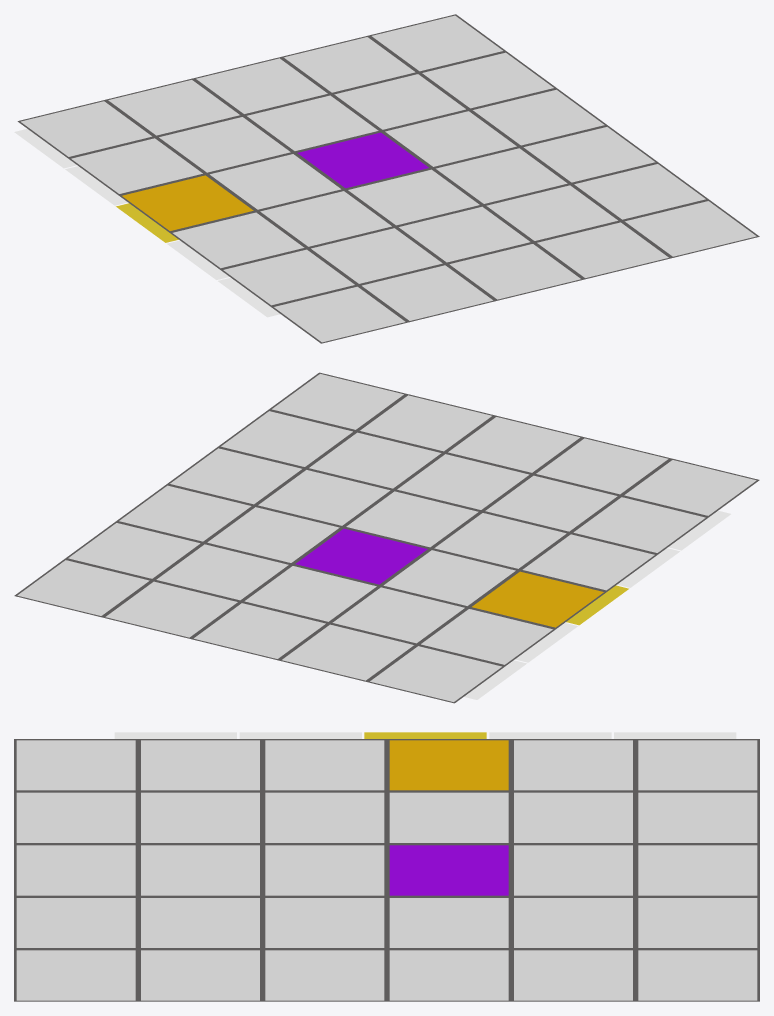
The model's file is grid level 6.fbx.
3 views of the same model, one above another, from view 1: azimuth 30°, elevation 25°; view 2: azimuth 150°, elevation 25°; view 3: azimuth 270°, elevation 25° (orthographic). The views are drawn at different scales.
Visible parts, largest first — view 1: Plane.002, Plane; view 2: Plane.002, Plane; view 3: Plane.002, Plane.
Boxes of the visible parts, x1,y1,x2,y2 form: Plane.002: (17, 14, 759, 343); Plane: (14, 129, 280, 317); Plane.002: (14, 372, 759, 703); Plane: (464, 510, 730, 699); Plane.002: (14, 739, 759, 1001); Plane: (114, 732, 736, 738).
Size of the model in its own units: 790 by 1.02 by 921.
